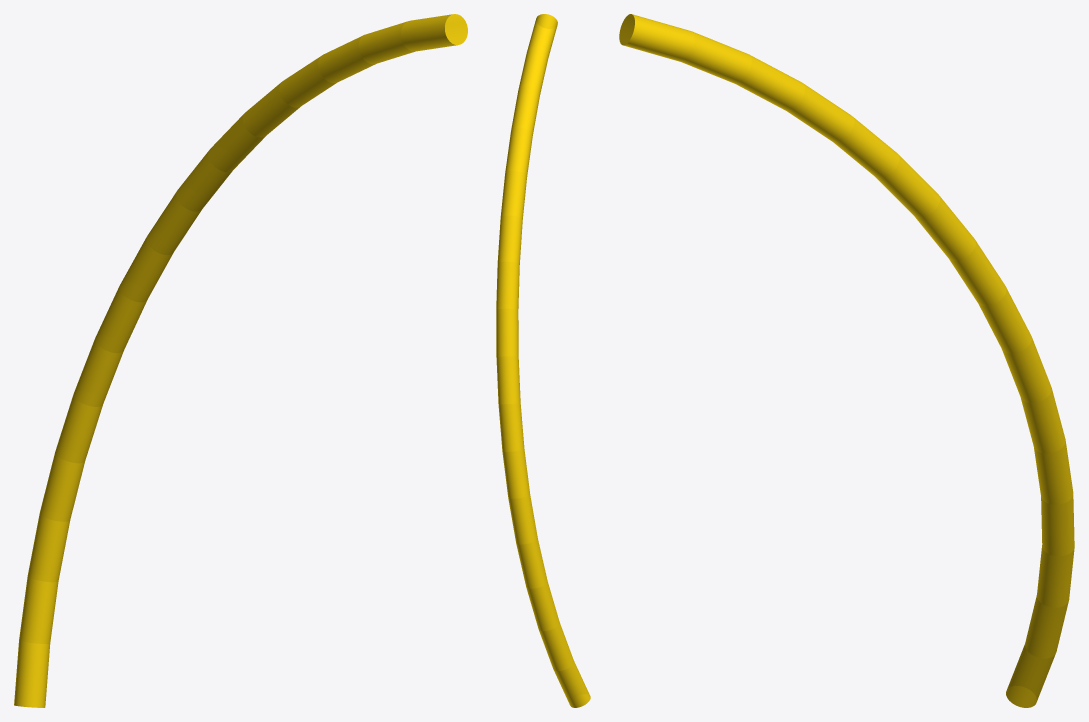
The model's file is Event_421115418_track_133.fbx.
The picture shows the model from 3 angles, left to right: view 1: azimuth 30°, elevation 25°; view 2: azimuth 150°, elevation 25°; view 3: azimuth 270°, elevation 25°; orthographic projection. The views are drawn at different scales.
Parts seen in each view (by area): view 1: Model; view 2: Model; view 3: Model.
Boxes of the visible parts, x1=… form: Model: x1=14, y1=14, x2=467, y2=707; Model: x1=496, y1=14, x2=590, y2=707; Model: x1=619, y1=14, x2=1074, y2=707.
Size of the model in its own units: 0.3869 by 1.09 by 0.5588.
